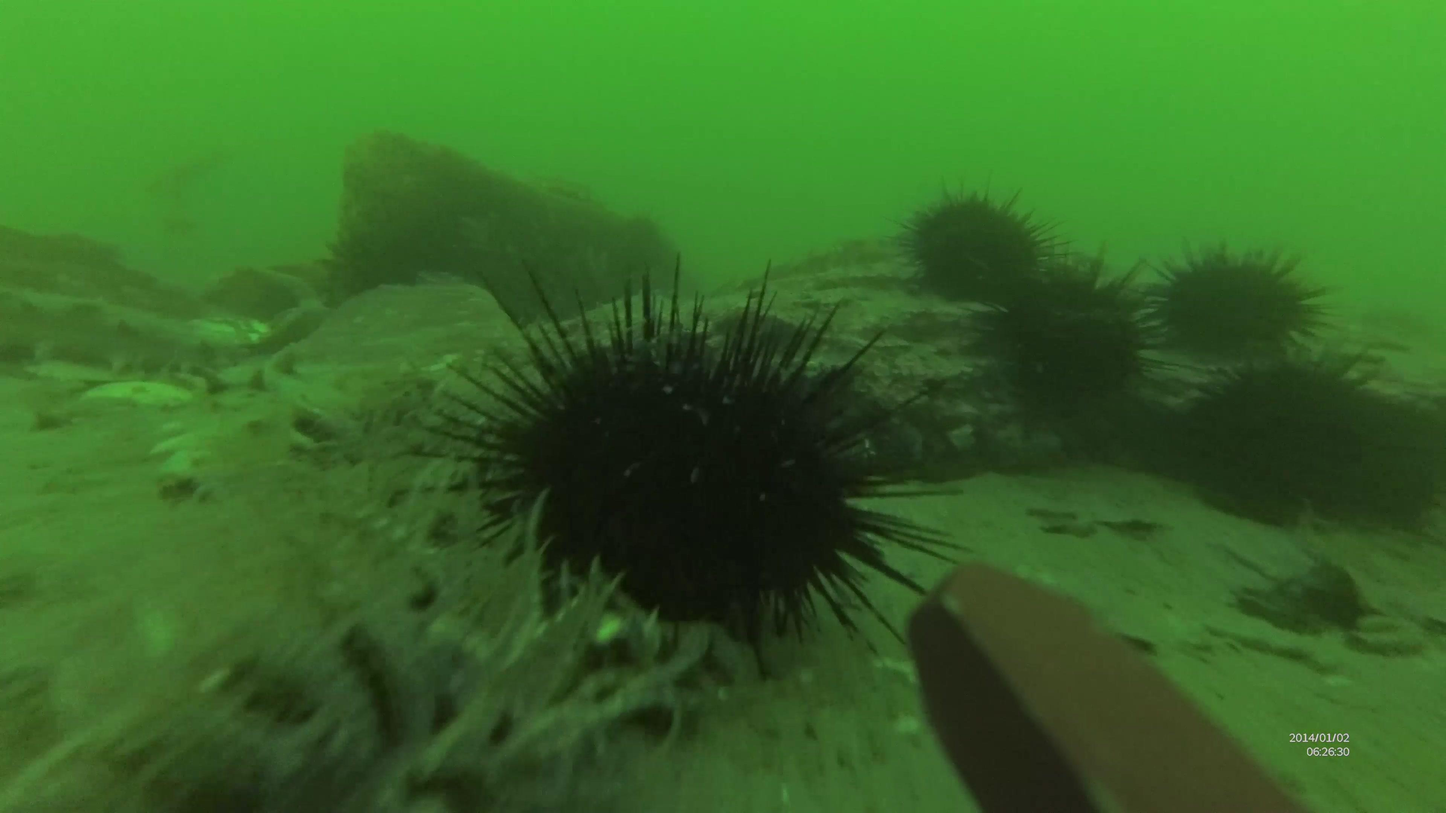holothurian: (87, 378, 194, 414)
starfish: (439, 281, 951, 667), (1178, 372, 1445, 525), (982, 249, 1174, 419), (1142, 245, 1349, 376), (896, 182, 1064, 298)
